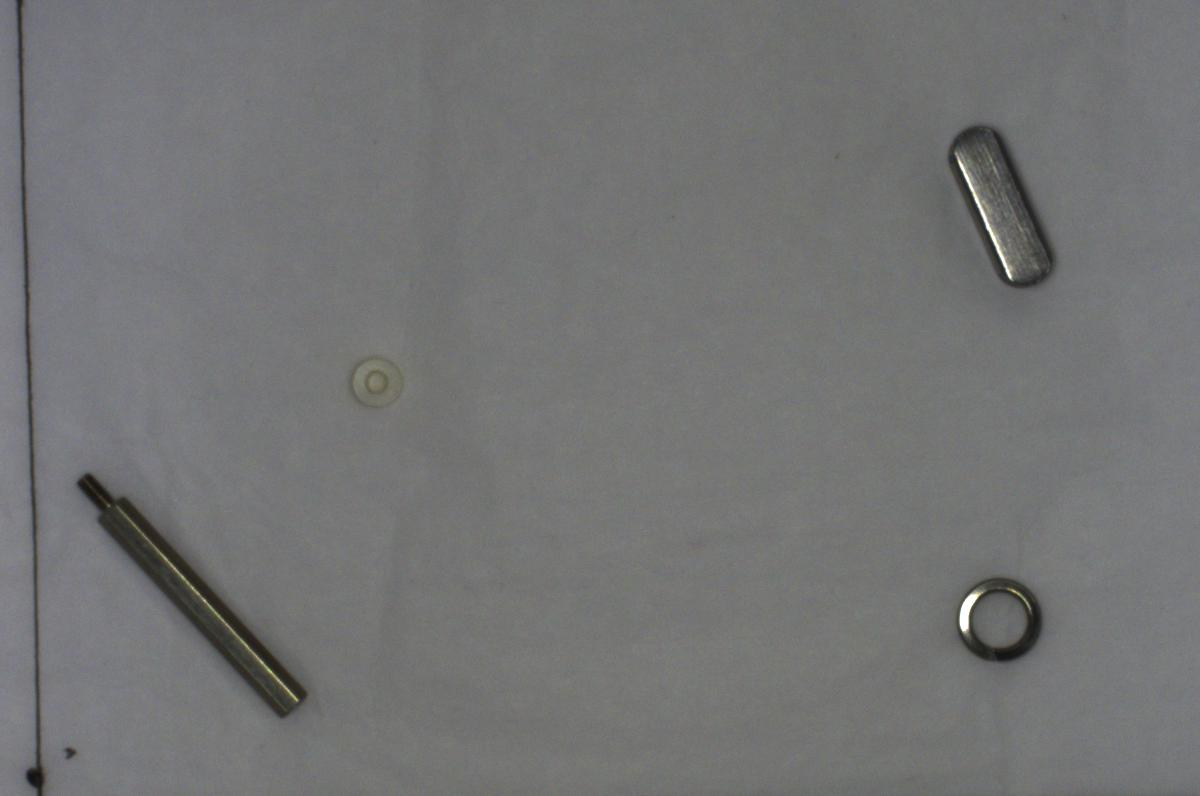Hexagonal steel column: (72, 463, 317, 727)
Keybar: (938, 115, 1065, 296)
Plastic cushion pillar: (340, 352, 410, 412)
Spring washer: (946, 567, 1045, 668)
